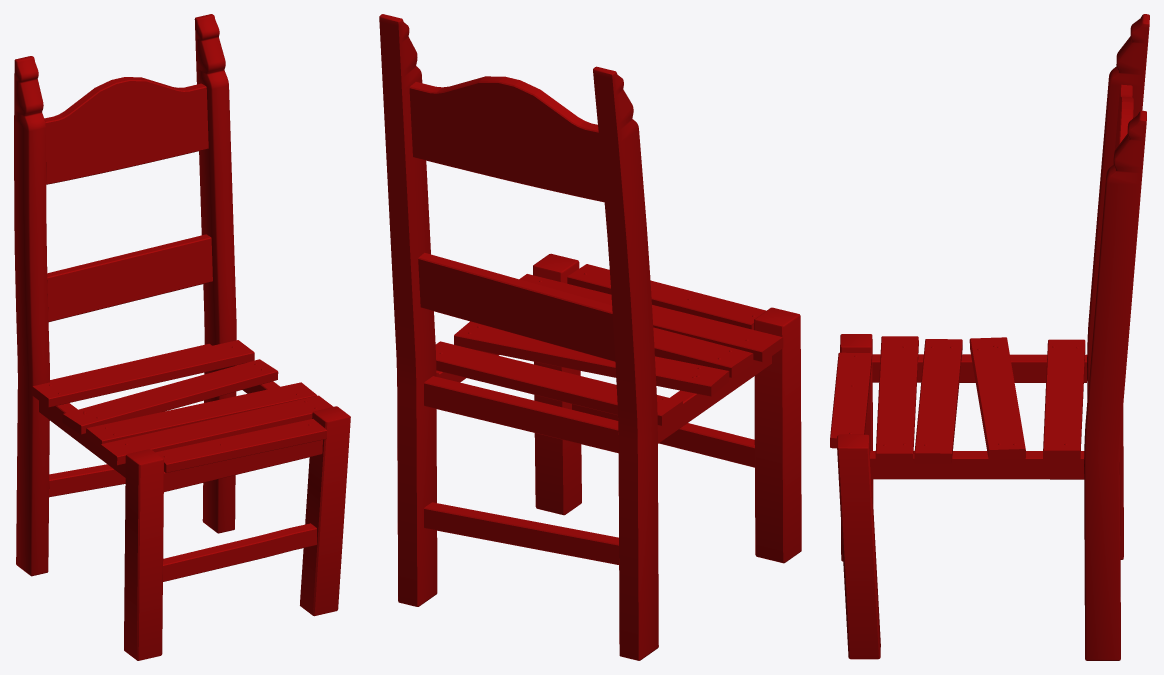
The model's file is SM_Chair_01.fbx.
The picture shows the model from 3 angles, left to right: view 1: azimuth 30°, elevation 25°; view 2: azimuth 150°, elevation 25°; view 3: azimuth 270°, elevation 25°; orthographic projection. The views are drawn at different scales.
Visible parts, largest first — view 1: SM_Chair_01; view 2: SM_Chair_01; view 3: SM_Chair_01.
Boxes of the visible parts, x1=… form: SM_Chair_01: x1=14, y1=14, x2=350, y2=660; SM_Chair_01: x1=379, y1=14, x2=801, y2=660; SM_Chair_01: x1=830, y1=14, x2=1149, y2=660.
Size of the model in its own units: 57.4 by 67.11 by 126.
